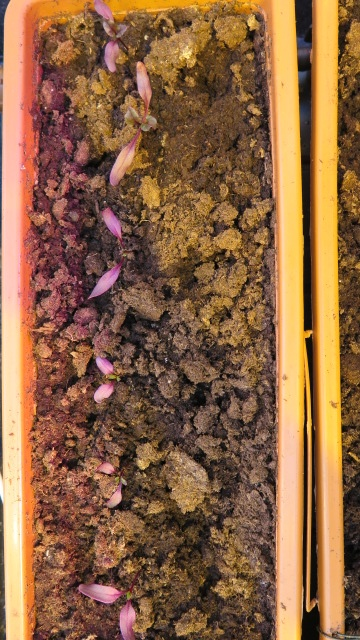crop: (107, 59, 160, 187), (74, 576, 148, 639), (85, 199, 125, 302), (90, 1, 129, 71), (92, 456, 130, 509), (92, 349, 121, 406)
